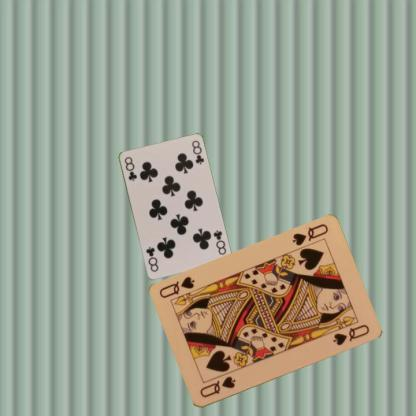8c: (210, 228, 227, 256), (122, 154, 138, 182)
Qs: (289, 222, 330, 248), (197, 374, 237, 399)
